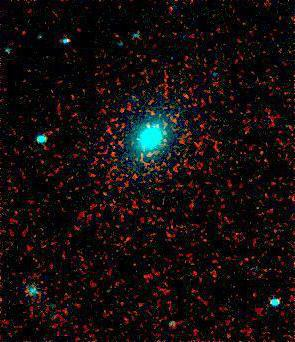star: (136, 139, 166, 169)
